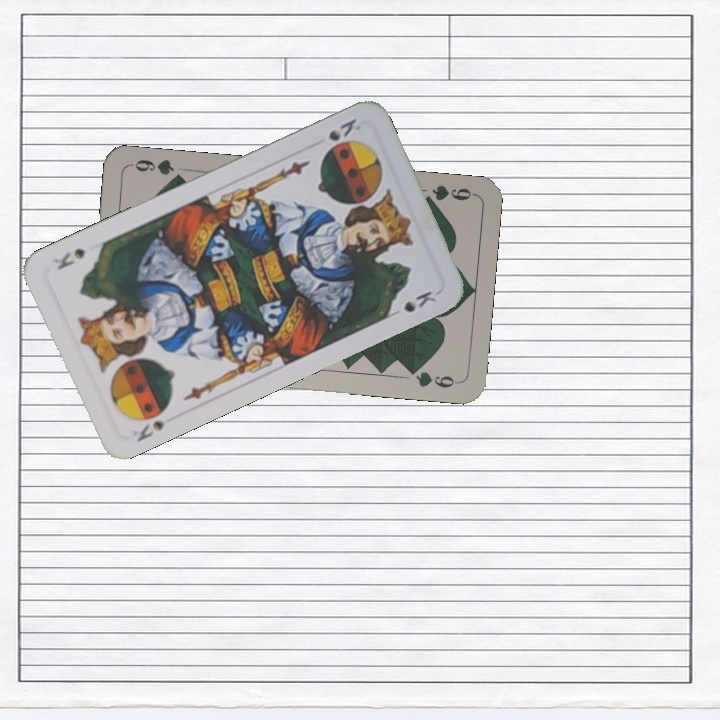G9: (416, 181, 476, 206)
SK: (128, 410, 180, 445), (324, 114, 359, 144)
